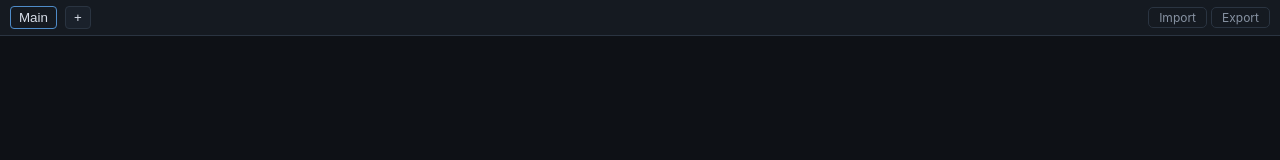
DashboardTabs apps.json interchange › tells the user which widgets were skipped
The width and height of the screenshot is (1280, 160).
Click the button "Import": x=1178, y=18 1148,7 -> 1207,28
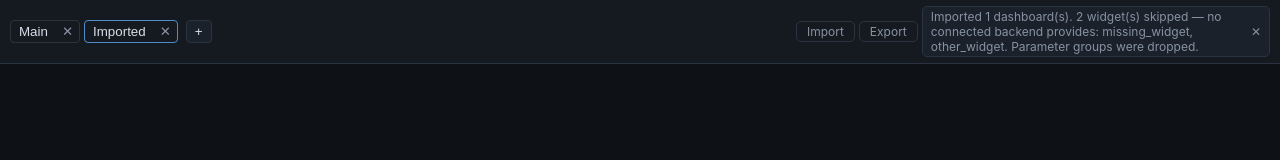
Result: the message shows "2 widget(s) skipped" at 931,9 -> 1222,54
Result: the message shows "missing_widget" at 931,9 -> 1222,54
Result: the message shows "Parameter groups were dropped." at 931,9 -> 1222,54
